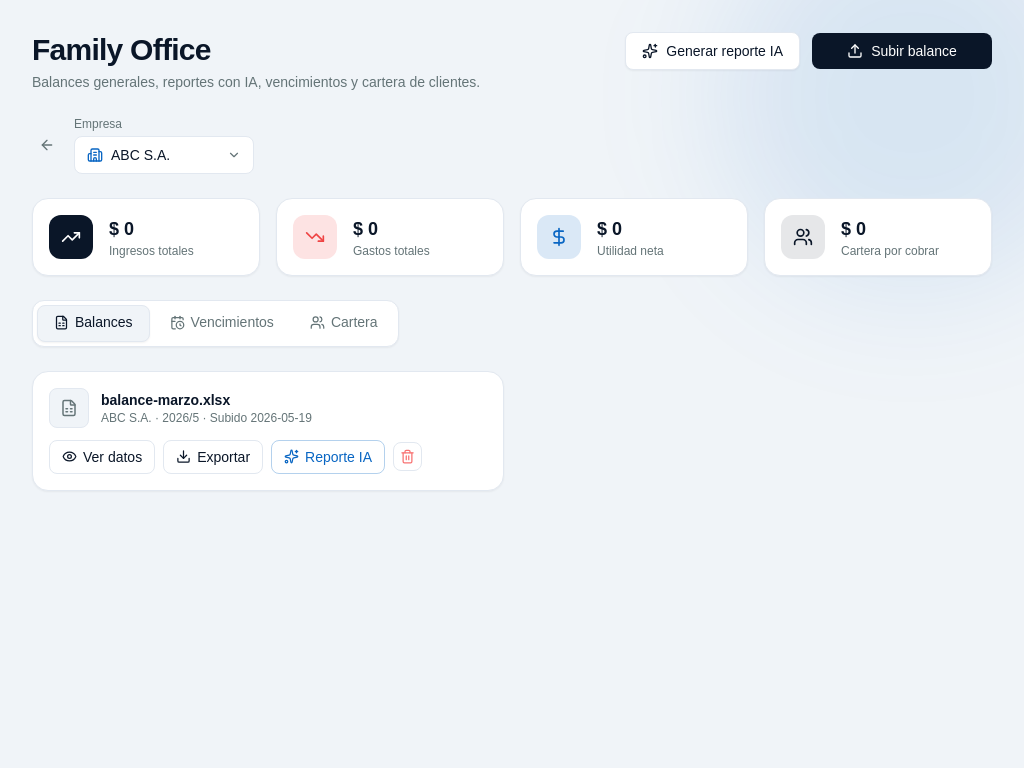
Test: FamilyOfficePage › solicita confirmacion antes de eliminar un balance y lo elimina al confirmar
Expected: the text "balance-marzo.xlsx" is shown, x1=101 y1=392 x2=230 y2=408
Click the button without text below "/5" at (408, 456), box x1=393 y1=442 x2=422 y2=471
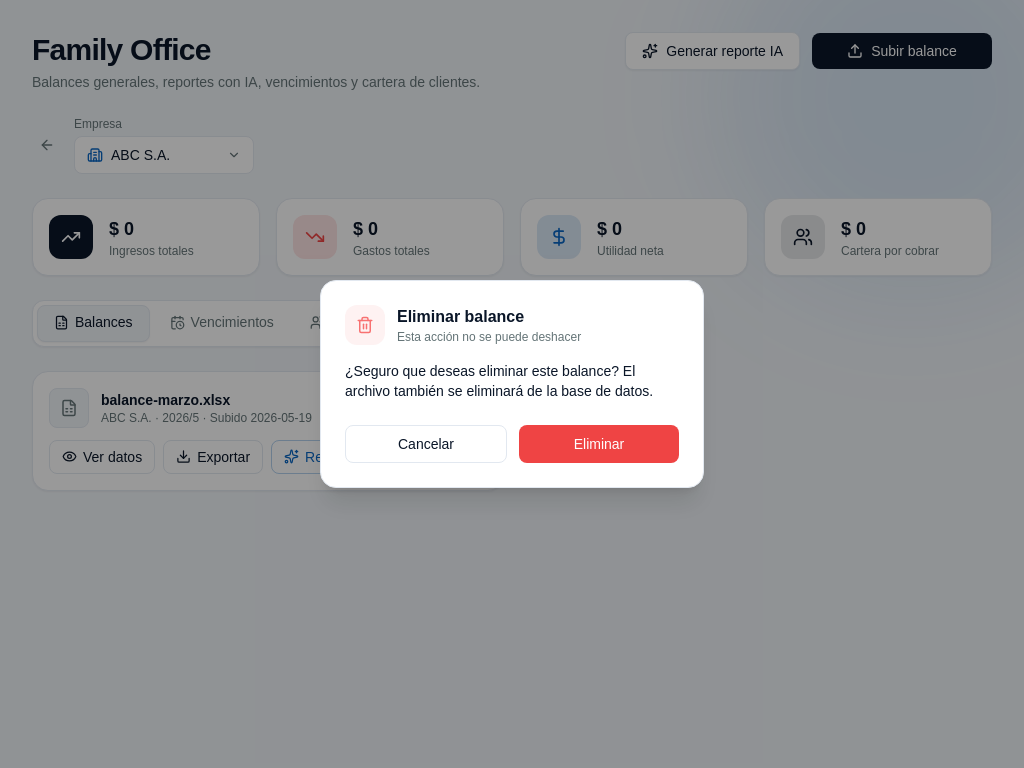
Click the button "Eliminar" at (599, 444), box x1=519 y1=425 x2=679 y2=463
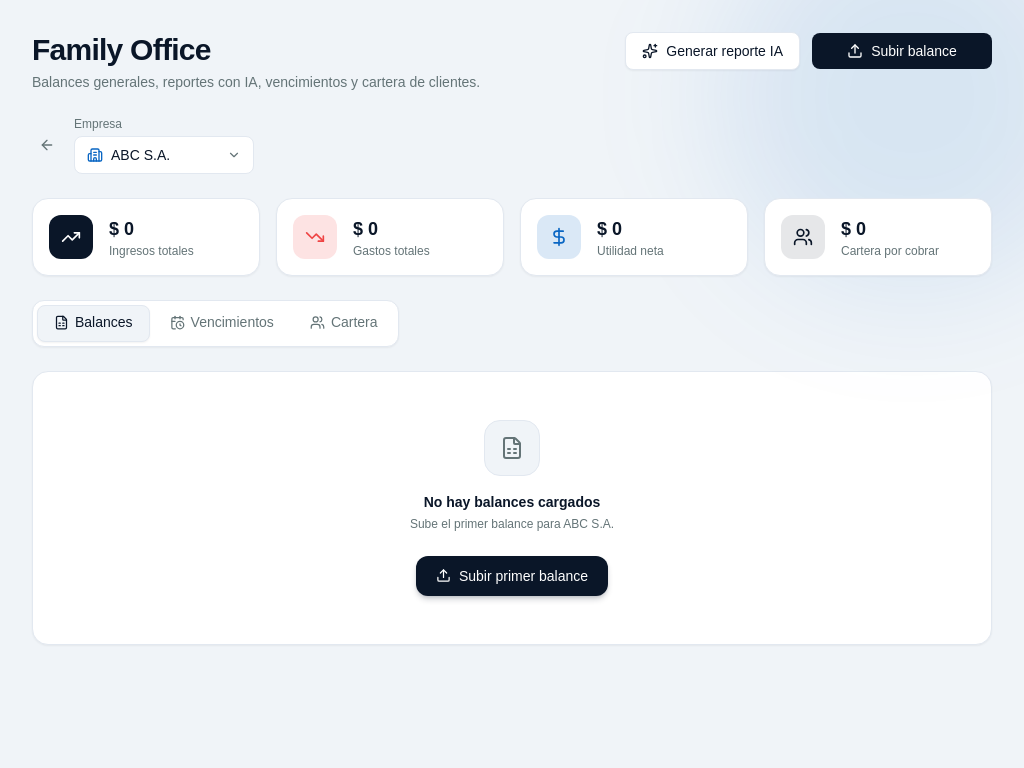
Expected: the text "balance-marzo.xlsx" is gone
